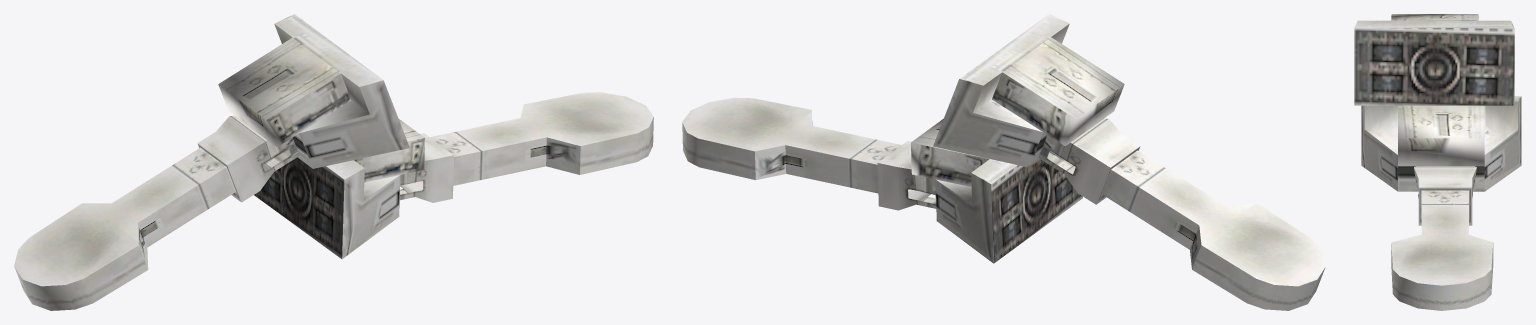
The model's file is poi_r5_leg_l1.fbx.
3 views of the same model, side by side, from view 1: azimuth 30°, elevation 25°; view 2: azimuth 150°, elevation 25°; view 3: azimuth 270°, elevation 25° (orthographic). The views are drawn at different scales.
Parts seen in each view (by area): view 1: mesh_node; view 2: mesh_node; view 3: mesh_node.
Boxes of the visible parts, left/top/right/bottom form: mesh_node: left=14, top=14, right=653, bottom=310; mesh_node: left=682, top=14, right=1325, bottom=310; mesh_node: left=1354, top=14, right=1521, bottom=310.
Size of the model in its own units: 1.43 by 0.4011 by 0.3711.
